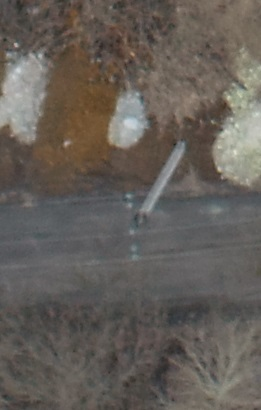opora: (124, 137, 187, 263)
